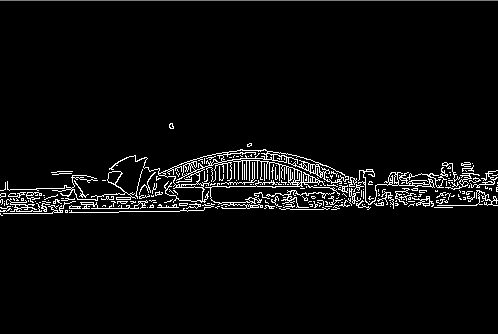opera house: (66, 144, 188, 212)
